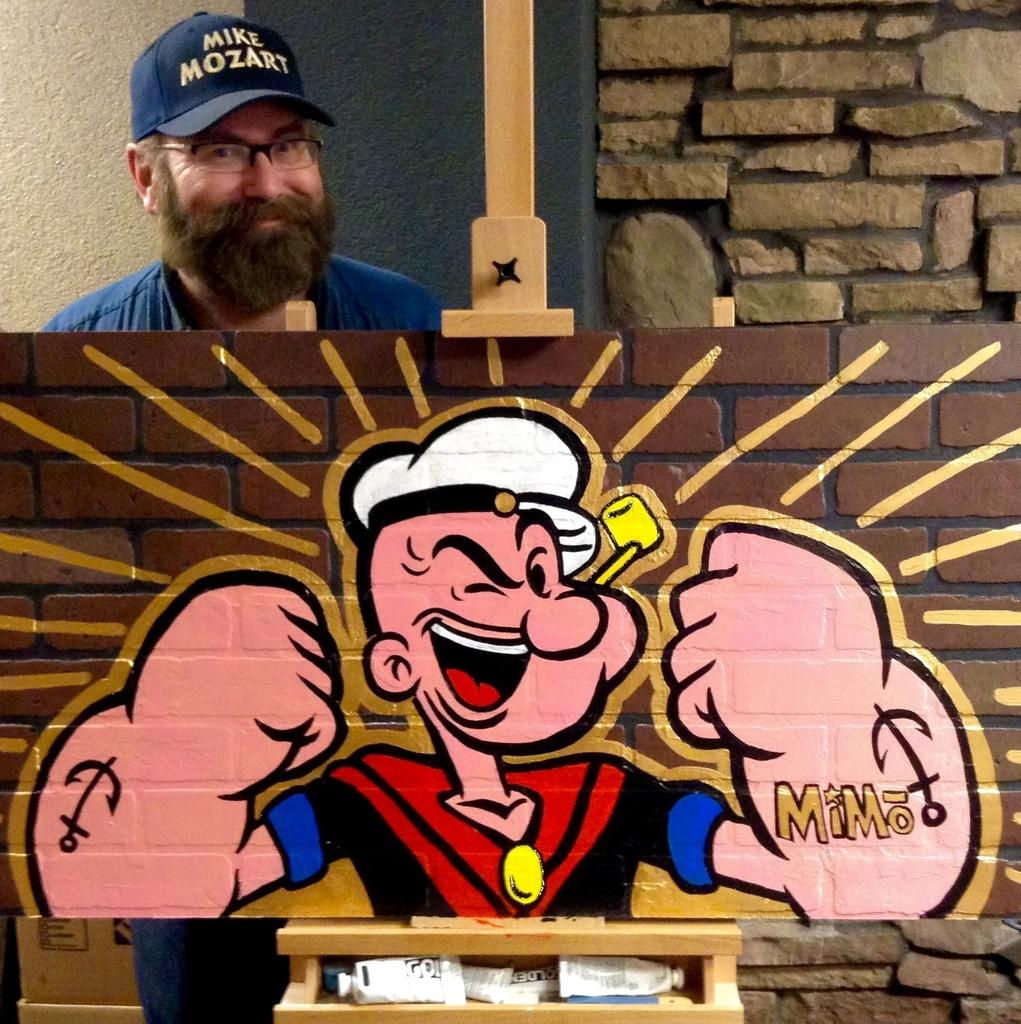Hat: (351, 406, 596, 576), (130, 6, 339, 147)
